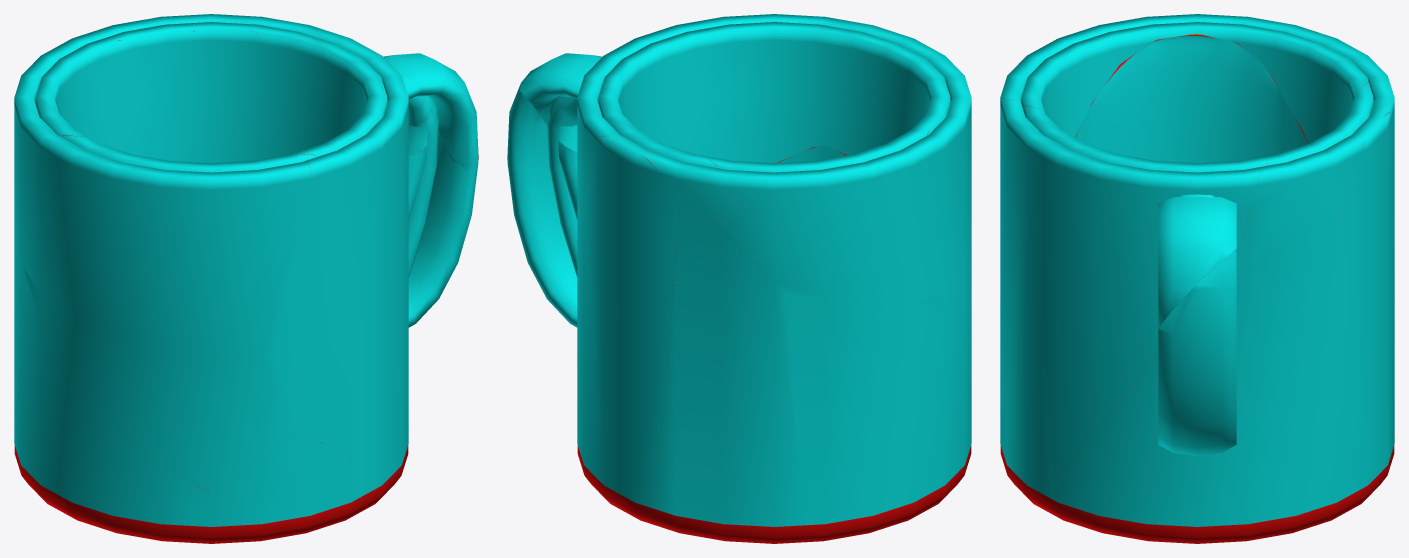
File: mug_shards_grp.fbx
3 renders of one model, left to right at view 1: azimuth 30°, elevation 25°; view 2: azimuth 150°, elevation 25°; view 3: azimuth 270°, elevation 25°, orthographic.
Parts seen in each view (by area): view 1: mug_1_shard_5, mug_1_shard_8, mug_1_shard_3, mug_1_shard_2, mug_3_shard_10, mug_1_shard_1, mug_3_shard_3, mug_1_shard_9, mug_1_shard_7, mug_3_shard_7, mug_2_shard_2, mug_2_shard_6 (+9 smaller); view 2: mug_1_shard_6, mug_1_shard_5, mug_1_shard_2, mug_1_shard_11, mug_3_shard_7, mug_3_shard_2, mug_1_shard_9, mug_1_shard_8, mug_1_shard_7, mug_2_shard_6, mug_2_shard_4, mug_1_shard_4 (+8 smaller); view 3: mug_1_shard_8, mug_1_shard_10, mug_3_shard_1, mug_1_shard_11, mug_1_shard_9, mug_1_shard_4, mug_1_shard_7, mug_3_shard_3, mug_3_shard_2, mug_1_shard_5, mug_2_shard_6, mug_1_shard_1 (+4 smaller).
Part boxes in pixels (box(x1,y1,x2,y2)): mug_1_shard_5: box(14, 19, 310, 357); mug_1_shard_8: box(276, 35, 408, 463); mug_1_shard_3: box(24, 271, 295, 493); mug_1_shard_2: box(14, 229, 210, 542); mug_3_shard_10: box(113, 30, 305, 163); mug_1_shard_1: box(189, 428, 398, 543); mug_3_shard_3: box(53, 31, 194, 147); mug_1_shard_9: box(408, 131, 478, 327); mug_1_shard_7: box(383, 53, 477, 171); mug_3_shard_7: box(298, 51, 369, 149); mug_2_shard_2: box(60, 135, 316, 172); mug_2_shard_6: box(299, 37, 387, 156); mug_1_shard_6: box(656, 196, 806, 543); mug_1_shard_5: box(617, 25, 971, 301); mug_1_shard_2: box(786, 294, 971, 542); mug_1_shard_11: box(583, 136, 680, 525); mug_3_shard_7: box(622, 30, 825, 163); mug_3_shard_2: box(823, 34, 932, 155); mug_1_shard_9: box(507, 91, 577, 327); mug_1_shard_8: box(582, 14, 870, 90); mug_1_shard_7: box(518, 53, 602, 124); mug_2_shard_6: box(601, 22, 839, 91); mug_2_shard_4: box(705, 122, 928, 172); mug_1_shard_4: box(577, 81, 620, 189); mug_1_shard_8: box(1000, 98, 1260, 486); mug_1_shard_10: box(1051, 228, 1336, 543); mug_3_shard_1: box(1075, 33, 1308, 163); mug_1_shard_11: box(1330, 112, 1394, 520); mug_1_shard_9: box(1158, 249, 1236, 455); mug_1_shard_4: box(1236, 134, 1363, 272); mug_1_shard_7: box(1158, 196, 1236, 327); mug_3_shard_3: box(1245, 33, 1355, 143); mug_3_shard_2: box(1039, 29, 1260, 137); mug_1_shard_5: box(1000, 14, 1394, 134); mug_2_shard_6: box(1024, 106, 1267, 172); mug_1_shard_1: box(1000, 366, 1060, 518).
Size of the model in its own units: 12.58 by 10.31 by 10.02.
